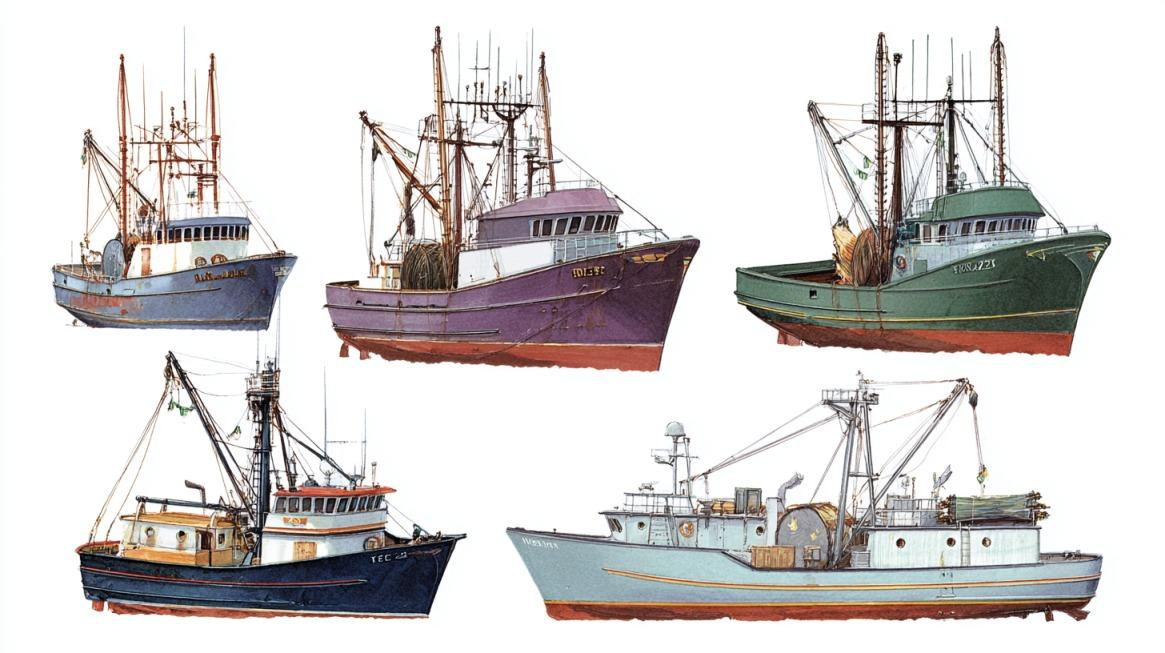fishing boat: (494, 368, 1108, 626), (322, 22, 705, 379), (735, 25, 1115, 358), (73, 345, 471, 629), (39, 31, 296, 337)
